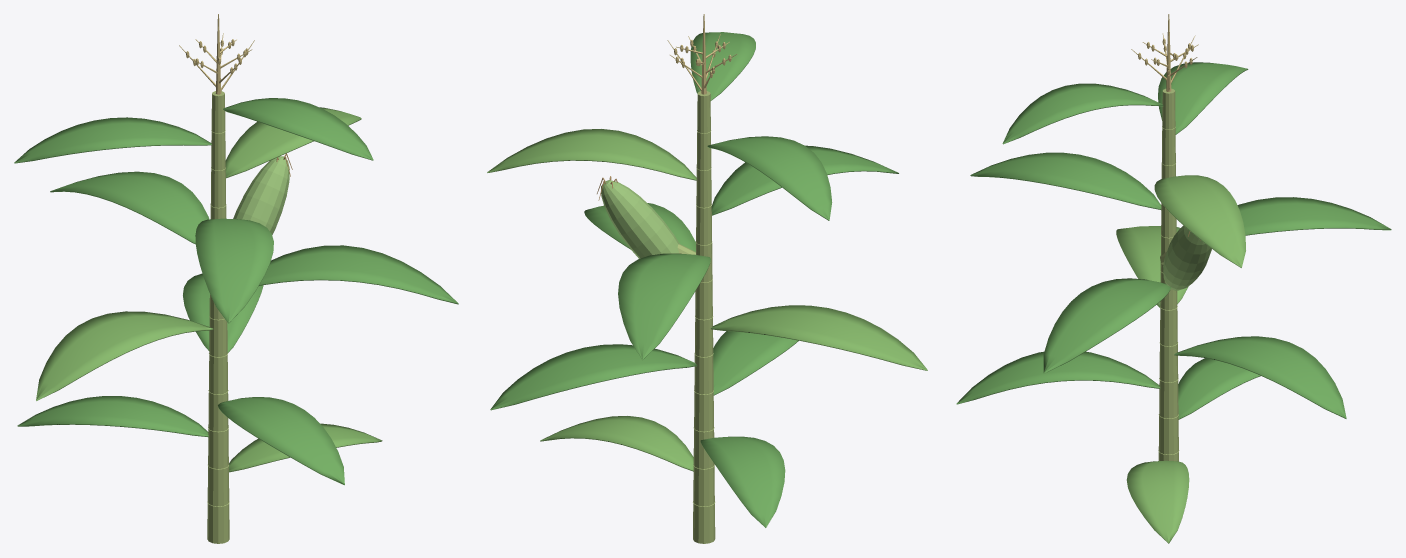
3 views of the same model, side by side, from view 1: azimuth 30°, elevation 25°; view 2: azimuth 150°, elevation 25°; view 3: azimuth 270°, elevation 25° (orthographic). The views are drawn at different scales.
Visible parts, largest first — view 1: 叶片_05, 叶片_08, 叶片_06, 叶片_03, 叶片_07, 叶片_10, 叶片_02, 叶片_11, 叶片_09, 雌穗_正常_苞叶包裹果穗, 叶片_04, 叶片_01 (+9 smaller); view 2: 叶片_07, 叶片_05, 叶片_04, 叶片_09, 叶片_10, 叶片_02, 叶片_01, 雌穗_正常_苞叶包裹果穗, 叶片_08, 叶片_03, 叶片_11, 叶片_06 (+11 smaller); view 3: 叶片_06, 叶片_04, 叶片_08, 叶片_09, 叶片_03, 叶片_07, 叶片_01, 叶片_11, 叶片_10, 叶片_02, 雌穗_正常_苞叶包裹果穗, 叶片_05 (+5 smaller).
Boxes of the visible parts, left/top/right/bottom form: 叶片_05: left=36, top=311, right=213, bottom=400; 叶片_08: left=195, top=218, right=273, bottom=323; 叶片_06: left=259, top=245, right=458, bottom=304; 叶片_03: left=218, top=397, right=344, bottom=485; 叶片_07: left=50, top=171, right=209, bottom=244; 叶片_10: left=14, top=117, right=211, bottom=163; 叶片_02: left=17, top=396, right=208, bottom=437; 叶片_11: left=223, top=98, right=373, bottom=160; 叶片_09: left=225, top=107, right=361, bottom=178; 雌穗_正常_苞叶包裹果穗: left=233, top=156, right=289, bottom=234; 叶片_04: left=183, top=273, right=263, bottom=352; 叶片_01: left=229, top=423, right=382, bottom=472; 叶片_07: left=618, top=253, right=710, bottom=359; 叶片_05: left=711, top=305, right=927, bottom=370; 叶片_04: left=490, top=344, right=697, bottom=410; 叶片_09: left=487, top=129, right=696, bottom=180; 叶片_10: left=707, top=136, right=832, bottom=220; 叶片_02: left=700, top=436, right=785, bottom=527; 叶片_01: left=540, top=416, right=693, bottom=471; 雌穗_正常_苞叶包裹果穗: left=601, top=180, right=679, bottom=258; 叶片_08: left=711, top=145, right=898, bottom=215; 叶片_03: left=713, top=331, right=798, bottom=395; 叶片_11: left=690, top=32, right=755, bottom=100; 叶片_06: left=584, top=203, right=695, bottom=251; 叶片_06: left=1043, top=278, right=1170, bottom=373; 叶片_04: left=1174, top=336, right=1346, bottom=418; 叶片_08: left=970, top=152, right=1161, bottom=209; 叶片_09: left=1154, top=175, right=1245, bottom=267; 叶片_03: left=956, top=351, right=1160, bottom=404; 叶片_07: left=1237, top=197, right=1391, bottom=235; 叶片_01: left=1126, top=460, right=1189, bottom=543; 叶片_11: left=1002, top=83, right=1163, bottom=144; 叶片_10: left=1158, top=62, right=1248, bottom=134; 叶片_02: left=1178, top=358, right=1260, bottom=419; 雌穗_正常_苞叶包裹果穗: left=1163, top=225, right=1211, bottom=290; 叶片_05: left=1116, top=226, right=1188, bottom=307.
Size of the model in its own units: 1.58 by 2.07 by 1.6.
